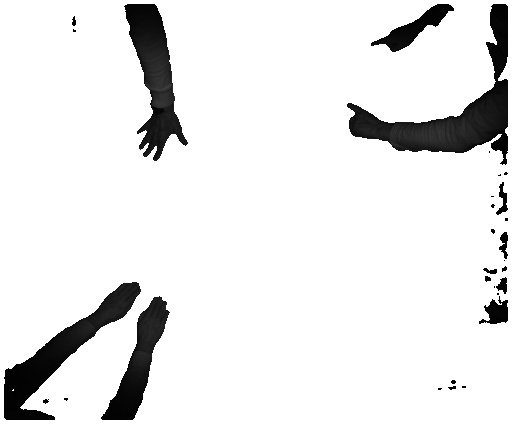hand: (136, 112, 191, 167), (344, 99, 389, 151), (91, 280, 143, 324), (136, 297, 175, 351), (368, 23, 418, 55)
